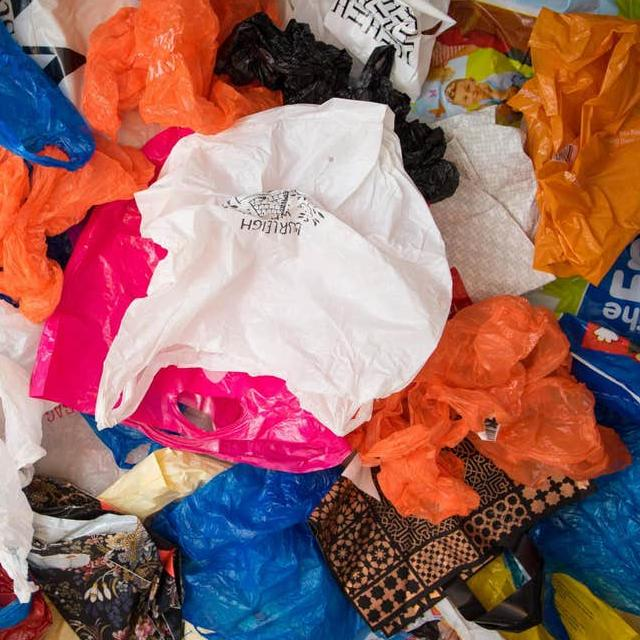Single-layer Plastic: (96, 99, 451, 435), (350, 296, 630, 523), (217, 12, 459, 202), (151, 464, 366, 640), (509, 9, 640, 284), (30, 200, 166, 413), (0, 134, 154, 322), (82, 0, 282, 139), (124, 366, 350, 472), (531, 426, 640, 612), (284, 0, 455, 101), (0, 300, 52, 602), (0, 21, 95, 171), (98, 448, 231, 519), (552, 572, 640, 640)
